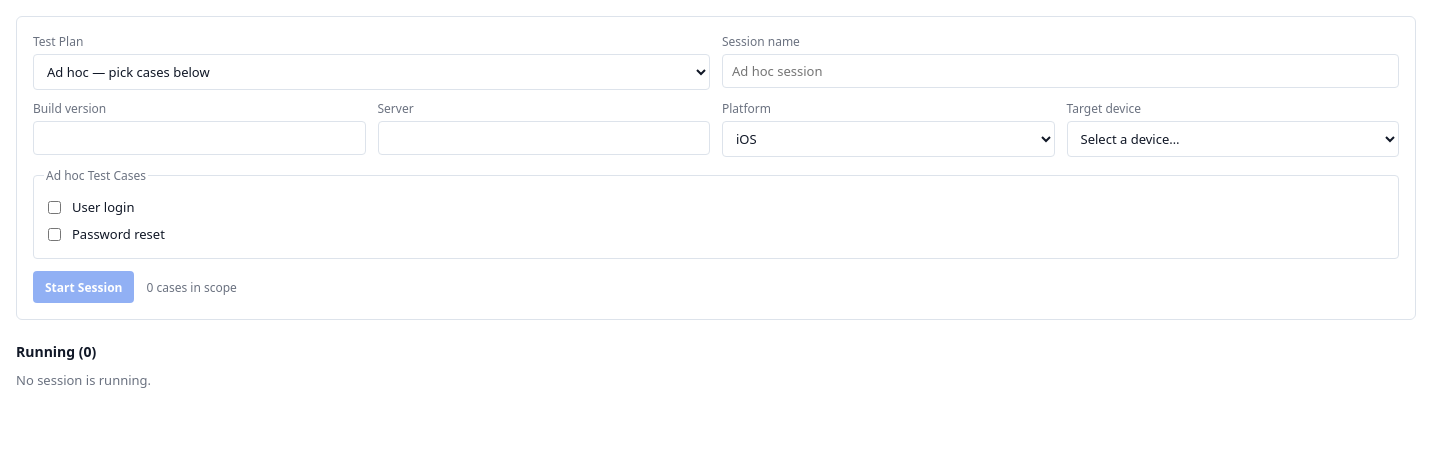
Test case: a refused start is reported and nothing is claimed to have started
The width and height of the screenshot is (1433, 460).
Step 1. Select "Pixel 8" in the dropdown labelled "Target device" → (1233, 139), box [1066,121,1399,157]
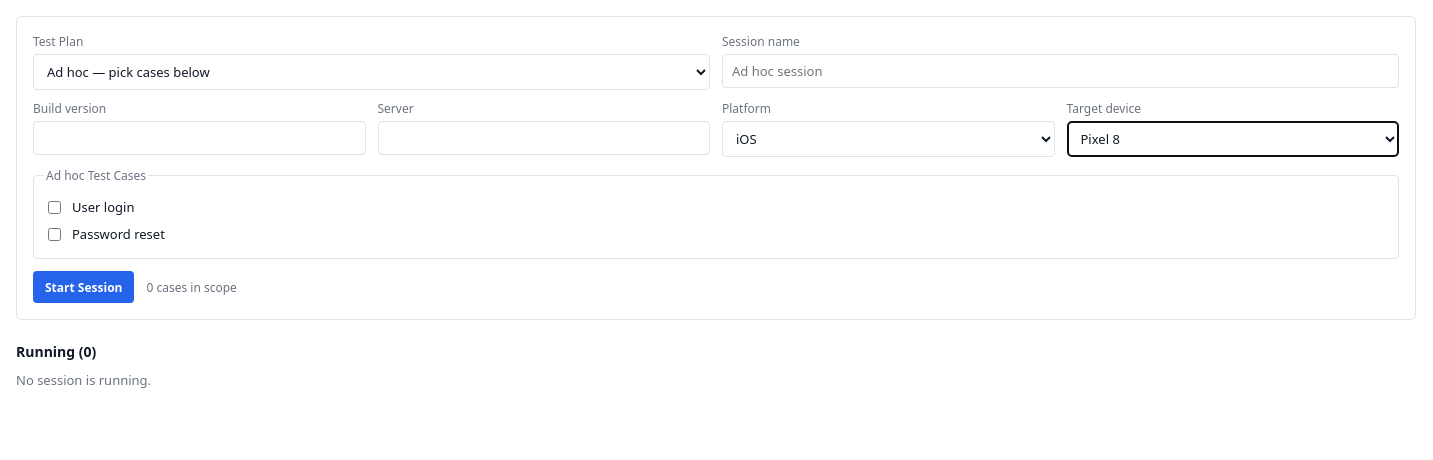
Step 2. Click the button "Start Session" → (84, 287), box [33,271,134,303]
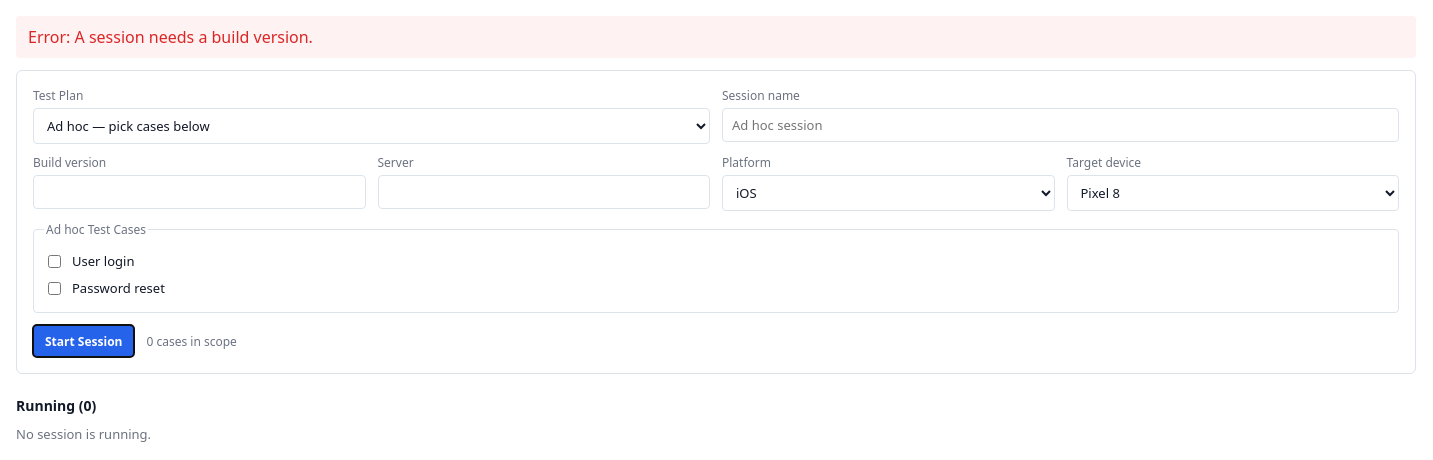
Expected: the text "No session is running." is shown, [16,425,151,443]
Expected: the message shows "A session needs a build version.", [28,26,313,48]
